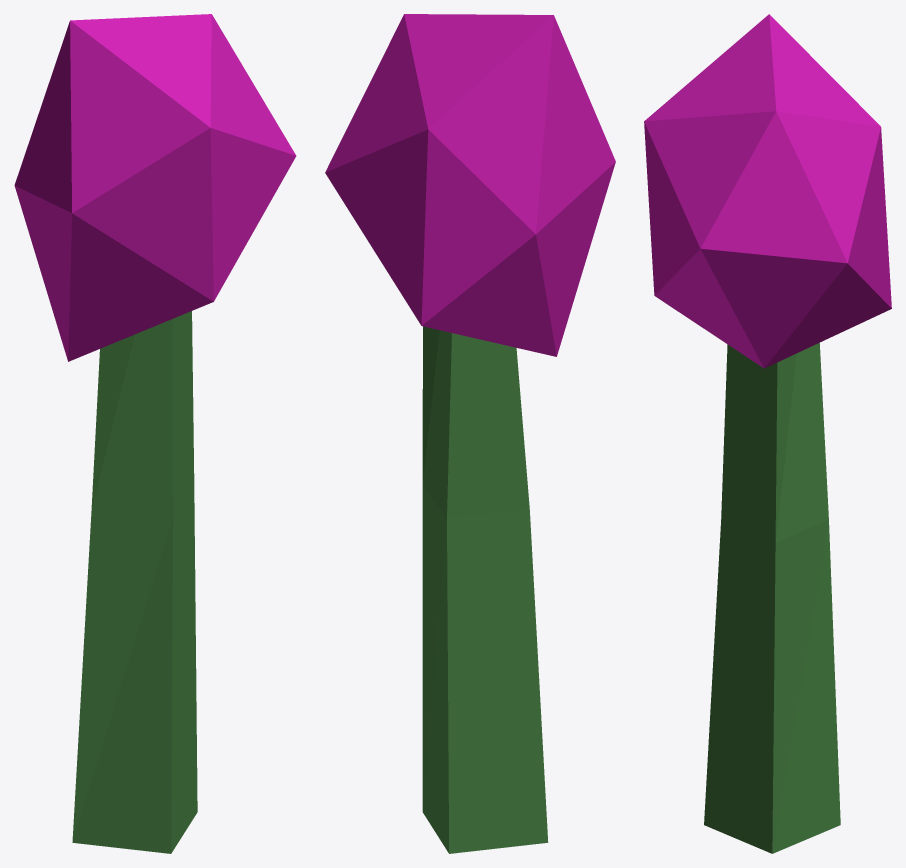
Rendered from Flower2.fbx.
3 views of the same model, side by side, from view 1: azimuth 30°, elevation 25°; view 2: azimuth 150°, elevation 25°; view 3: azimuth 270°, elevation 25° (orthographic). The views are drawn at different scales.
Visible parts, largest first — view 1: Merged; view 2: Merged; view 3: Merged.
Boxes of the visible parts, box(x1,y1,x2,y2) form: Merged: box(14, 14, 296, 853); Merged: box(325, 14, 615, 853); Merged: box(644, 14, 891, 853).
Bounding box in the file's own units: 35.15 × 126 × 36.25.
